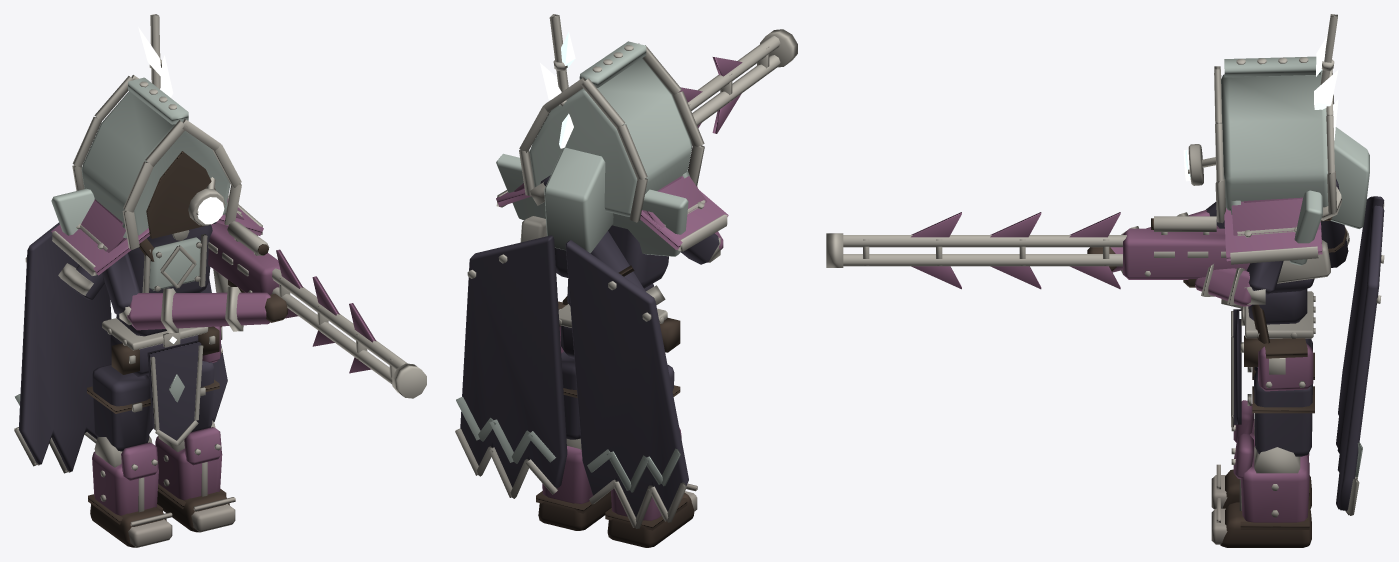
The model's file is watcher.glb.
3 views of the same model, side by side, from view 1: azimuth 30°, elevation 25°; view 2: azimuth 150°, elevation 25°; view 3: azimuth 270°, elevation 25° (orthographic). The views are drawn at different scales.
Parts seen in each view (by area): view 1: Charcoal_details.002, Team_details, Steel_details.002, Undercarriage_details.002, Bracers, Charcoal_details, Barrel_rails, Shoulder_fins, Barrel_receiver, Shin, Shin.001, Undercarriage_details (+12 smaller); view 2: Charcoal_details.002, Team_details, Steel_details.002, Barrel_rails, Shoulder_fins, Undercarriage_details, Undercarriage_details.001, Shin.001, Charcoal_details.001, Spire_crystals, Barrel_fins, Undercarriage_details.002 (+3 smaller); view 3: Team_details, Charcoal_details.002, Steel_details.002, Barrel_rails, Barrel_receiver, Shoulder_fins, Shin.001, Charcoal_details.001, Barrel_fins, Undercarriage_details.001, Undercarriage_details.002, Satchel (+8 smaller).
Boxes of the visible parts, x1,y1,x2,y2 form: Charcoal_details.002: (19,222,227,471); Team_details: (14,77,230,405); Steel_details.002: (14,14,262,473); Undercarriage_details.002: (111,151,287,374); Bracers: (127,292,270,330); Charcoal_details: (92,364,150,451); Barrel_rails: (272,268,407,383); Shoulder_fins: (51,198,263,275); Barrel_receiver: (208,222,280,294); Shin: (92,451,158,515); Shin.001: (155,436,222,500); Undercarriage_details: (87,386,166,547); Charcoal_details.002: (460,175,719,517); Team_details: (456,41,691,492); Steel_details.002: (455,14,727,528); Barrel_rails: (688,36,780,125); Shoulder_fins: (496,176,728,249); Undercarriage_details: (605,385,694,547); Undercarriage_details.001: (536,388,611,530); Shin.001: (542,446,592,503); Charcoal_details.001: (561,351,580,439); Spire_crystals: (540,32,575,148); Barrel_fins: (679,57,742,133); Undercarriage_details.002: (558,265,680,352); Team_details: (1221,56,1369,477); Charcoal_details.002: (1206,179,1384,510); Steel_details.002: (1121,14,1384,515); Barrel_rails: (843,235,1126,266); Barrel_receiver: (1123,228,1249,279); Shoulder_fins: (1224,197,1322,261); Shin.001: (1240,453,1309,522); Charcoal_details.001: (1254,369,1312,456); Barrel_fins: (911,212,1120,289); Undercarriage_details.001: (1220,386,1314,547); Undercarriage_details.002: (1087,216,1347,366); Satchel: (1258,343,1313,391).
Bounding box in the file's own units: 1.27 × 2.75 × 2.67.
